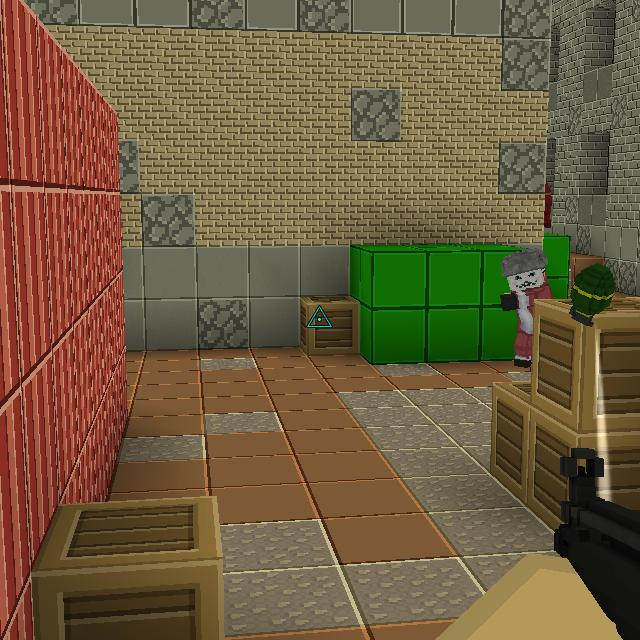enemy: (498, 247, 556, 369)
